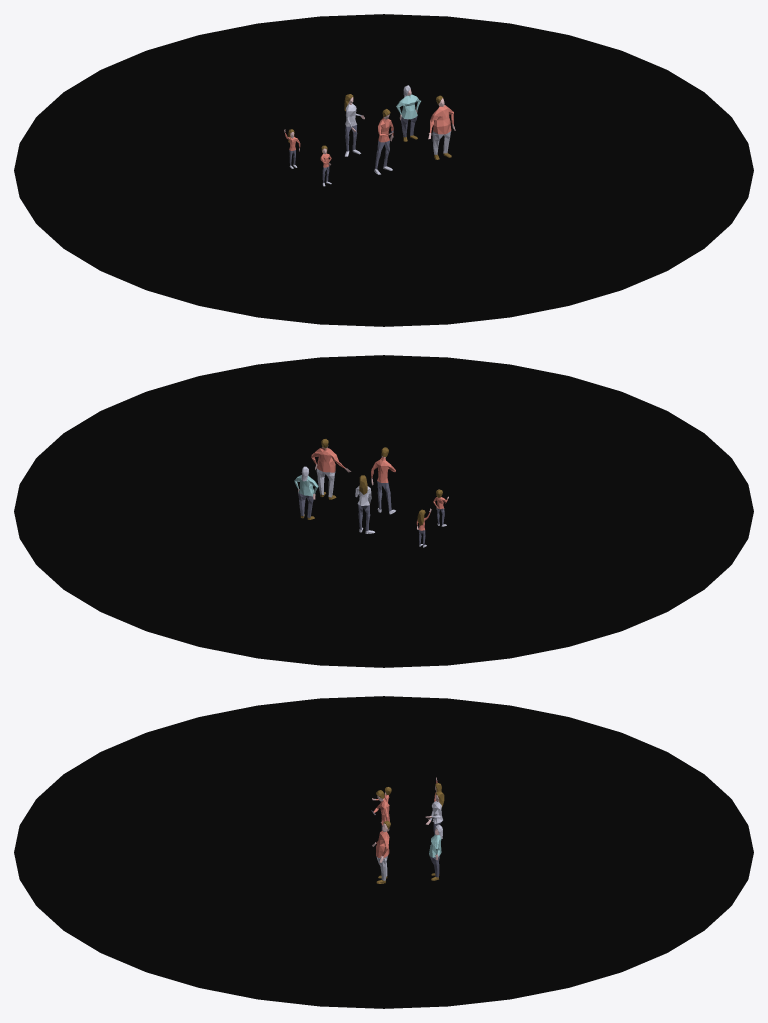
File: Man_01.fbx
3 views of the same model, one above another, from view 1: azimuth 30°, elevation 25°; view 2: azimuth 150°, elevation 25°; view 3: azimuth 270°, elevation 25° (orthographic).
Parts seen in each view (by area): view 1: Mesh; view 2: Mesh; view 3: Mesh.
Part boxes in pixels (x1,y1,x2,y2): Mesh: (14, 14, 753, 326); Mesh: (14, 355, 753, 667); Mesh: (14, 696, 753, 1008).
Size of the model in its own units: 1704 by 158 by 1704.
